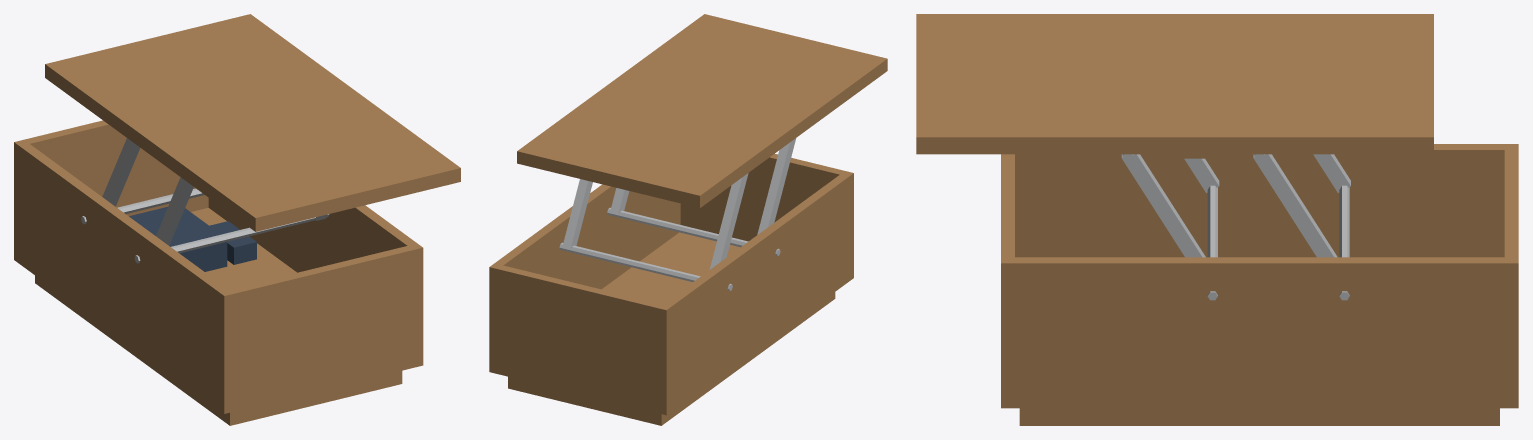
Rendered from FN_Table_Lift.obj.
The picture shows the model from 3 angles, left to right: view 1: azimuth 30°, elevation 25°; view 2: azimuth 150°, elevation 25°; view 3: azimuth 270°, elevation 25°; orthographic projection. The views are drawn at different scales.
Visible parts, largest first — view 1: FN_Table_Lift; view 2: FN_Table_Lift; view 3: FN_Table_Lift.
Part boxes in pixels (x1,y1,x2,y2): FN_Table_Lift: (14, 14, 460, 425); FN_Table_Lift: (489, 14, 887, 425); FN_Table_Lift: (916, 14, 1518, 425).
Size of the model in its own units: 0.62 by 0.7 by 1.28.
1 material, 1 textured.
